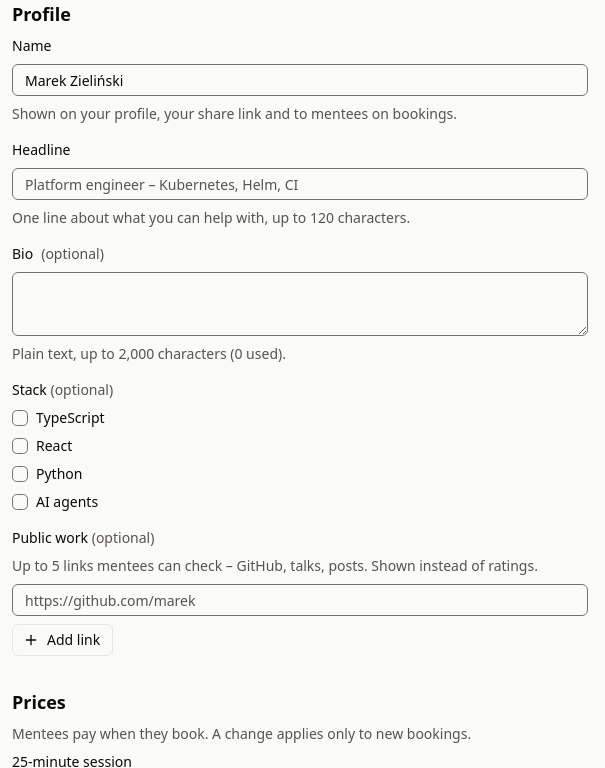
Test: MentorProfileForm › saves trimmed values, parsed prices and only filled links, then confirms
The width and height of the screenshot is (605, 768).
Type "  Platform engineer  " into the field labelled "Headline" at coordinates (300, 184), box [12, 168, 588, 200]
(page scrolled)
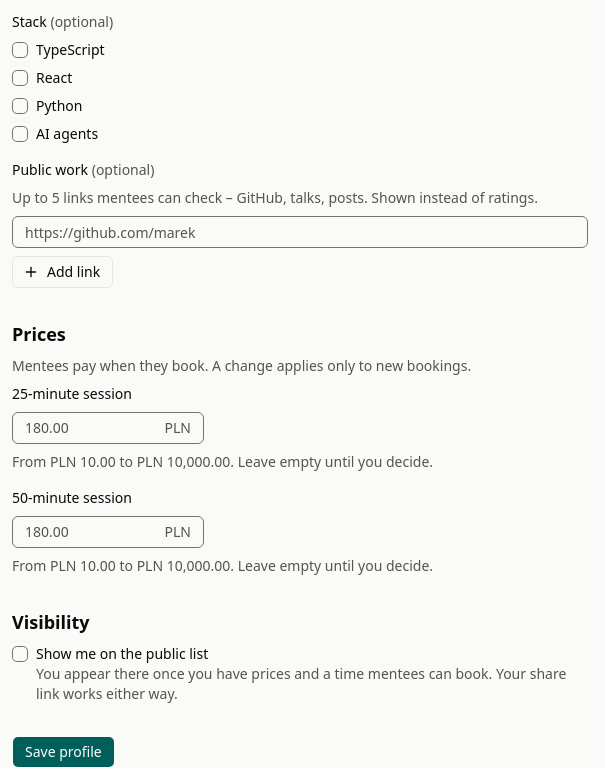
Type "180,5" into the field labelled "25-minute session" at coordinates (89, 428), box [13, 413, 164, 443]
Click the checkbox named "AI agents" next to "AI agents" at coordinates (20, 134), box [12, 126, 28, 142]
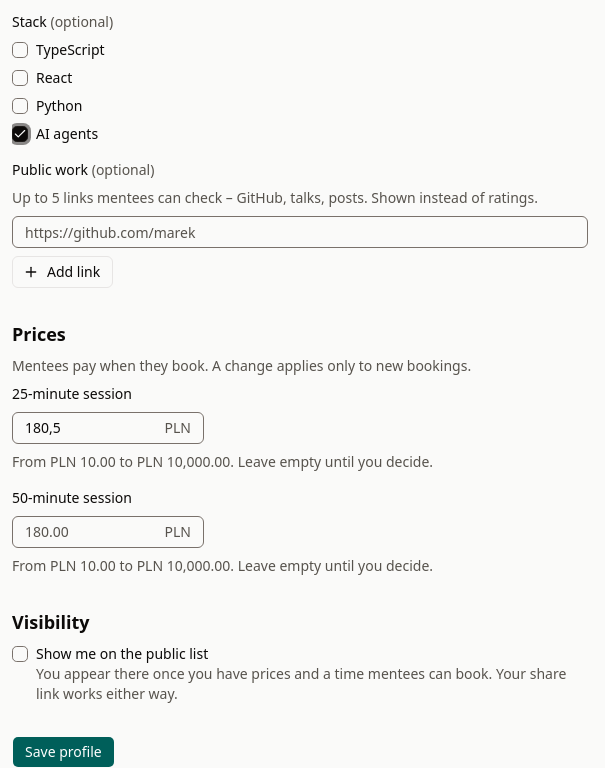
Click the checkbox named "React" next to "React" at coordinates (20, 78), box [12, 70, 28, 86]
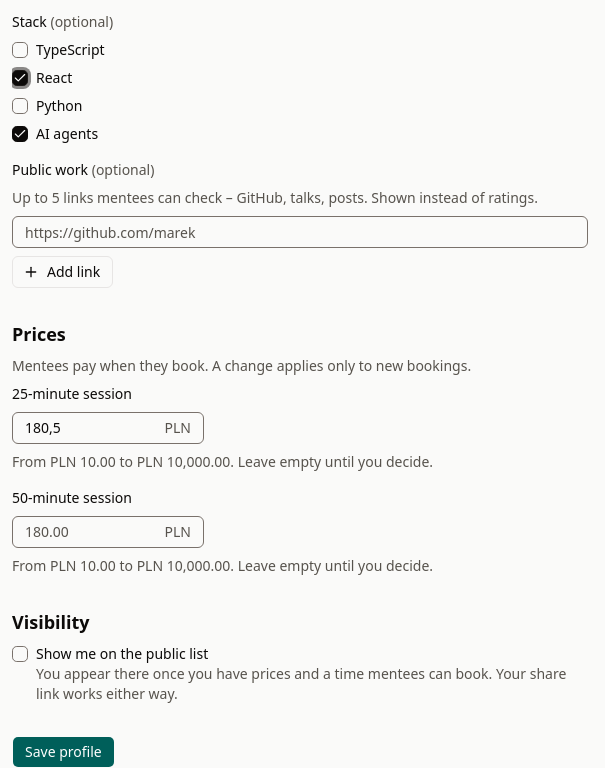
Click the checkbox named "React" next to "React" at coordinates (20, 78), box [12, 70, 28, 86]
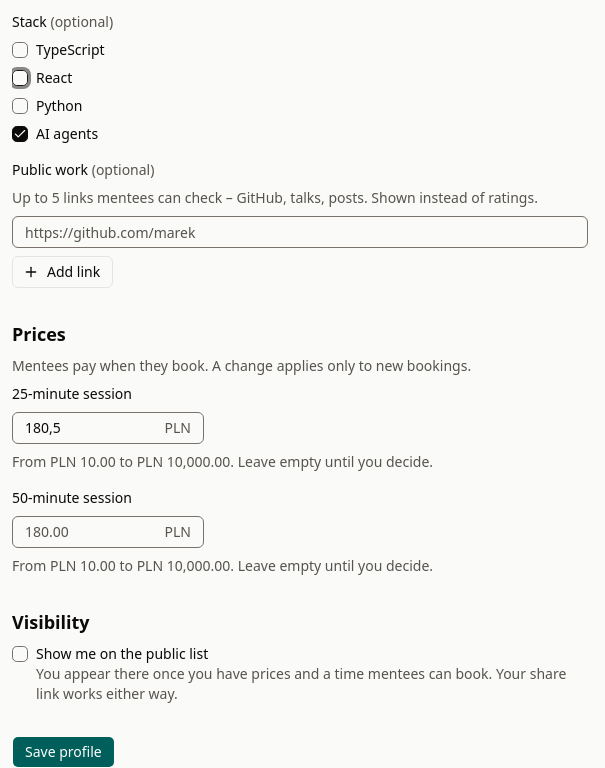
Click the checkbox named "Show me on the public list" next to "Show me on the public list" at coordinates (20, 654), box [12, 646, 28, 662]
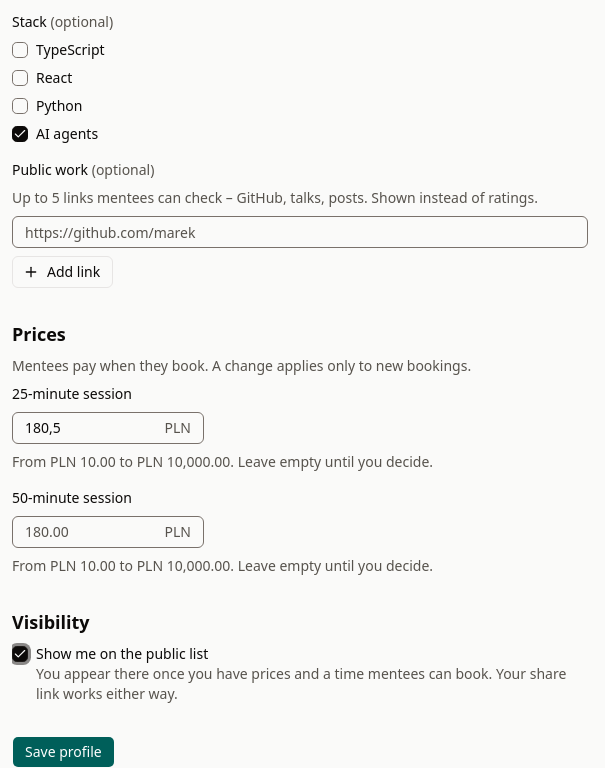
Click the button "Save profile" at coordinates (63, 752), box [12, 736, 115, 767]
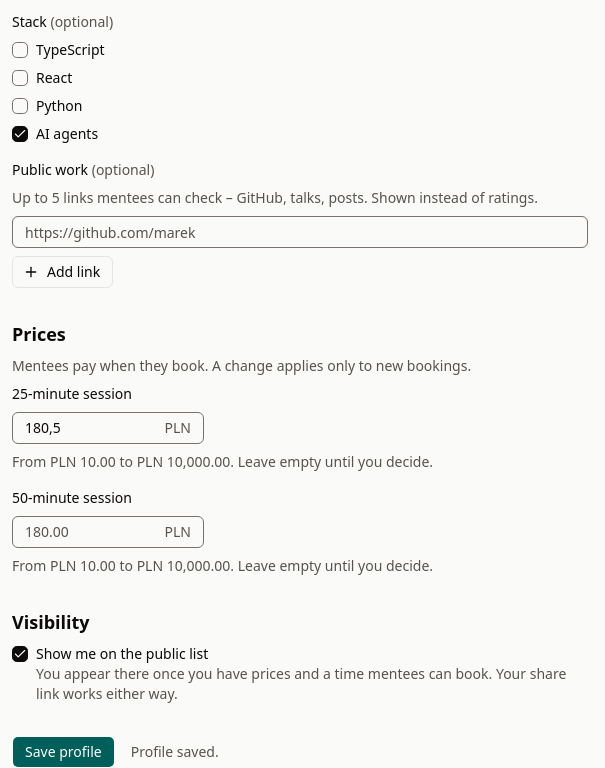
Expected: the message reads "Profile saved.", [131, 742, 219, 761]
